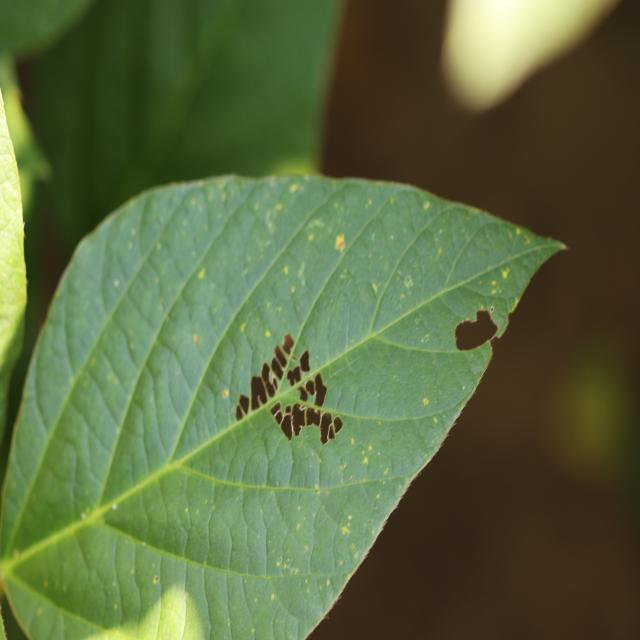Soybean: (0, 175, 568, 640)
downey_mildew: (241, 196, 519, 474), (71, 189, 271, 501), (103, 442, 280, 618), (365, 214, 555, 361), (164, 183, 303, 346), (243, 183, 368, 346), (122, 273, 221, 459), (59, 214, 157, 400), (257, 459, 366, 619), (103, 300, 204, 459), (1, 363, 75, 577), (126, 4, 203, 184), (350, 333, 467, 435), (203, 416, 280, 567), (59, 336, 134, 482), (129, 530, 320, 581), (413, 255, 542, 319), (8, 499, 116, 574), (64, 515, 130, 636), (301, 263, 380, 359), (231, 558, 322, 640), (102, 462, 176, 549), (444, 219, 526, 295), (300, 204, 373, 289), (379, 258, 440, 349), (308, 472, 379, 548), (168, 462, 289, 494), (273, 402, 423, 426), (155, 545, 192, 640), (111, 530, 143, 637), (202, 551, 238, 639), (178, 550, 212, 640), (317, 350, 363, 398), (273, 479, 388, 496), (124, 333, 141, 371)
